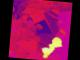Foc: (37, 34, 68, 59)
